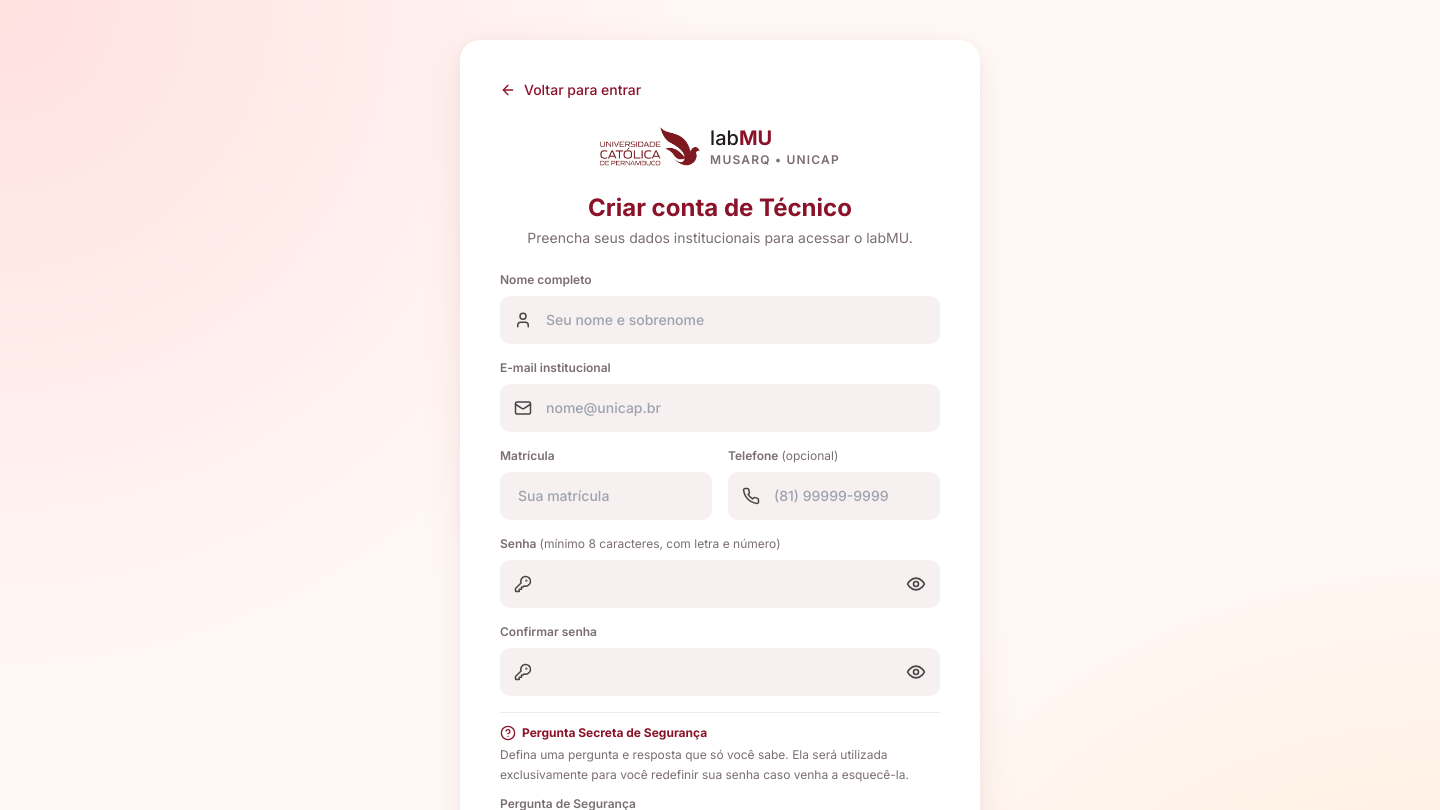
it: RegisterPage: validação › recusa confirmação de senha diferente
In the field labelled "Nome completo": (720, 320) x1=500 y1=296 x2=940 y2=344, type "Maria Técnica"
In the field labelled "E-mail institucional": (720, 408) x1=500 y1=384 x2=940 y2=432, type "maria.tecnica@unicap.br"
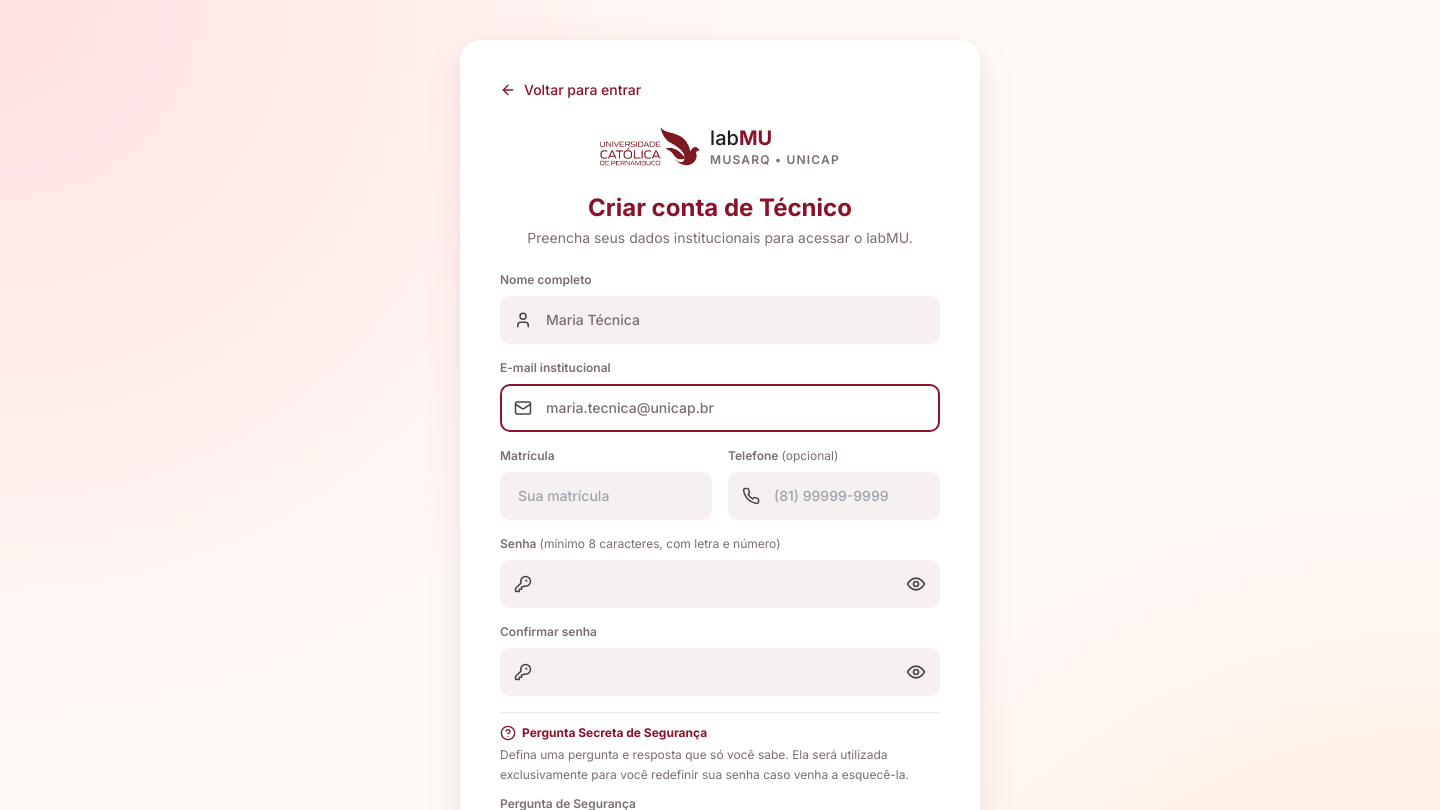
In the field labelled "Matrícula": (606, 496) x1=500 y1=472 x2=712 y2=520, type "2019123"
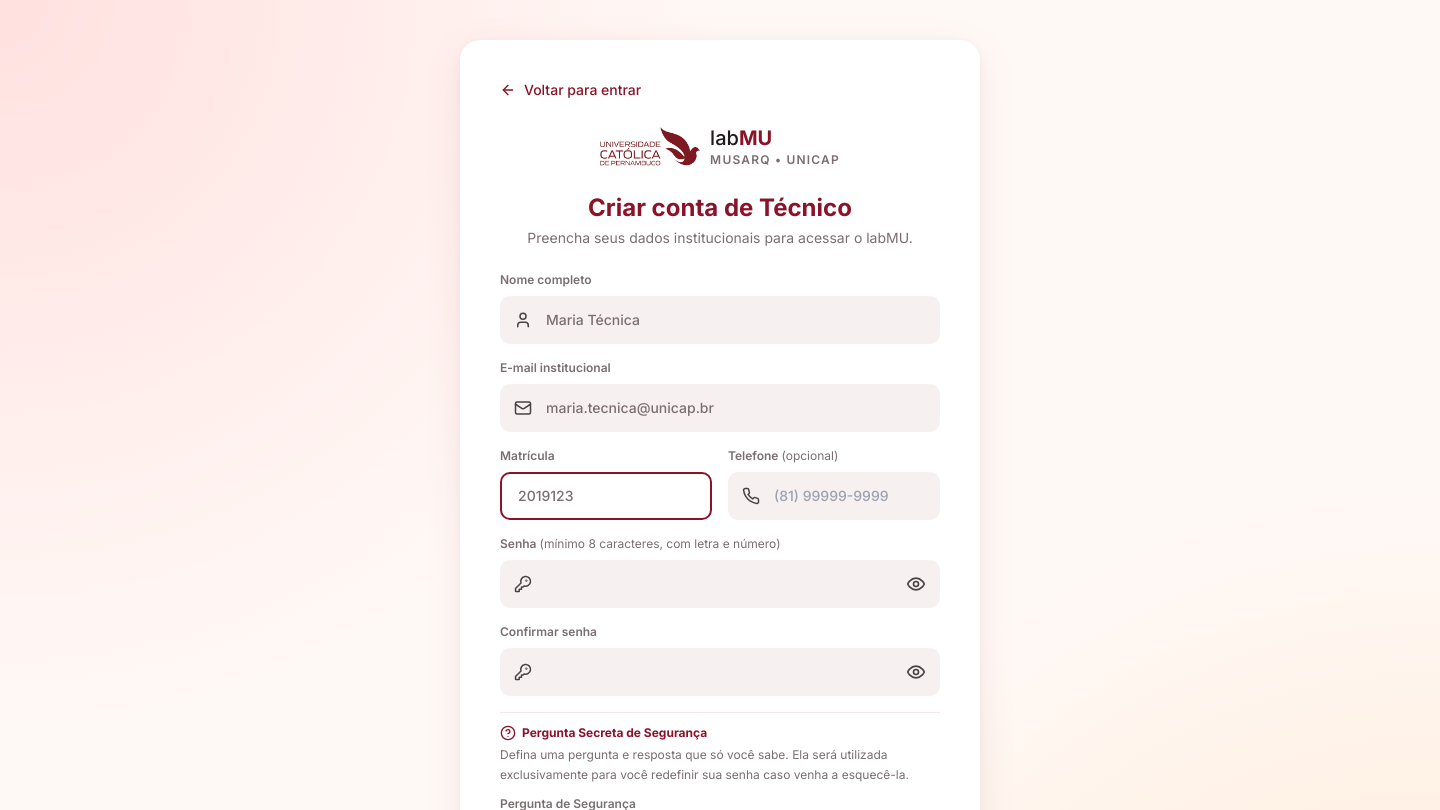
In the password field labelled "Senha (mínimo 8 caracteres, com letra e número)": (720, 584) x1=500 y1=560 x2=940 y2=608, type "SenhaForte@123"
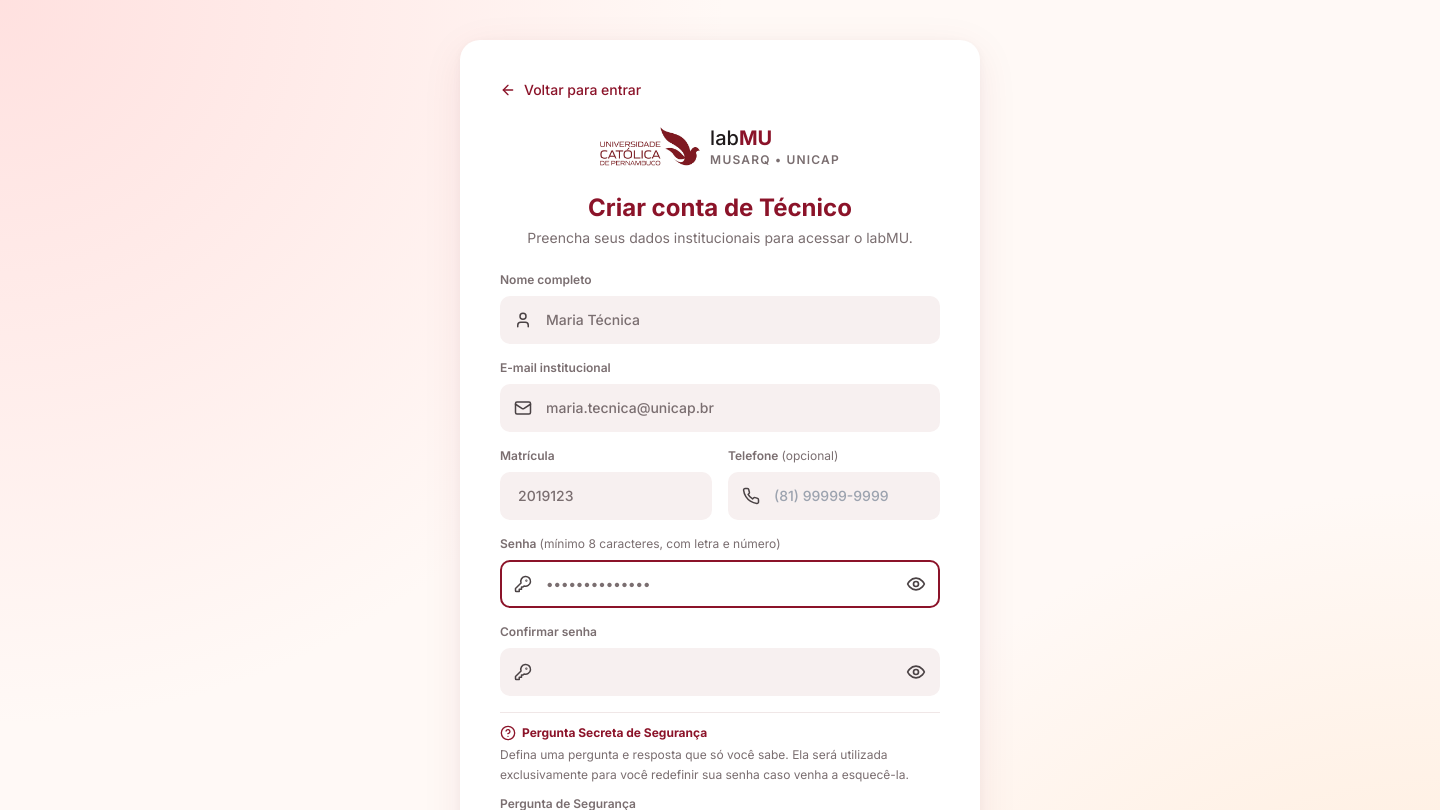
In the password field labelled "Confirmar senha": (720, 672) x1=500 y1=648 x2=940 y2=696, type "OutraSenha@123"
(page scrolled)
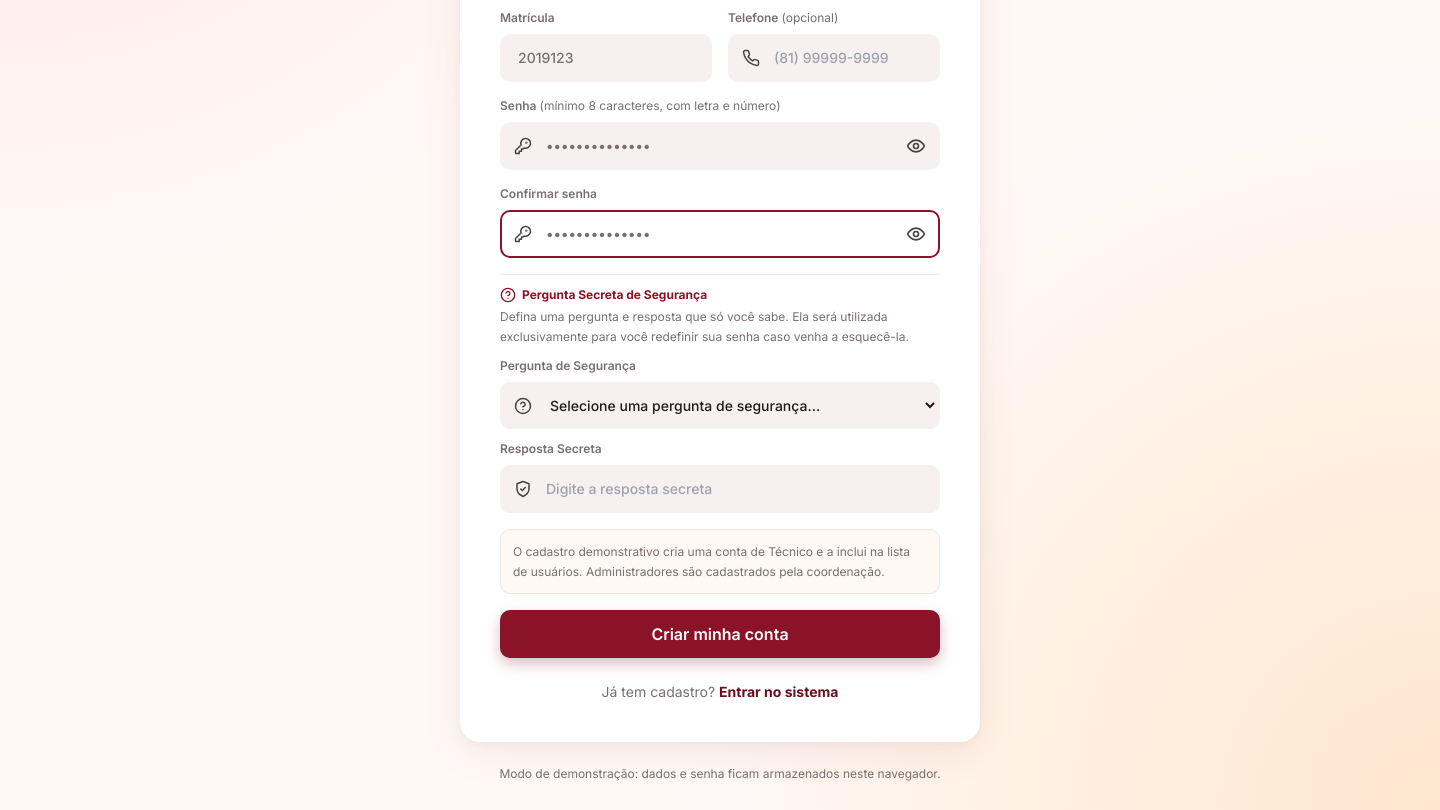
Select "Qual o nome do seu primeiro animal de estimação?" in the dropdown labelled "Pergunta de Segurança": (720, 406) x1=500 y1=382 x2=940 y2=429
In the field labelled "Resposta Secreta": (720, 489) x1=500 y1=465 x2=940 y2=513, type "Totó"
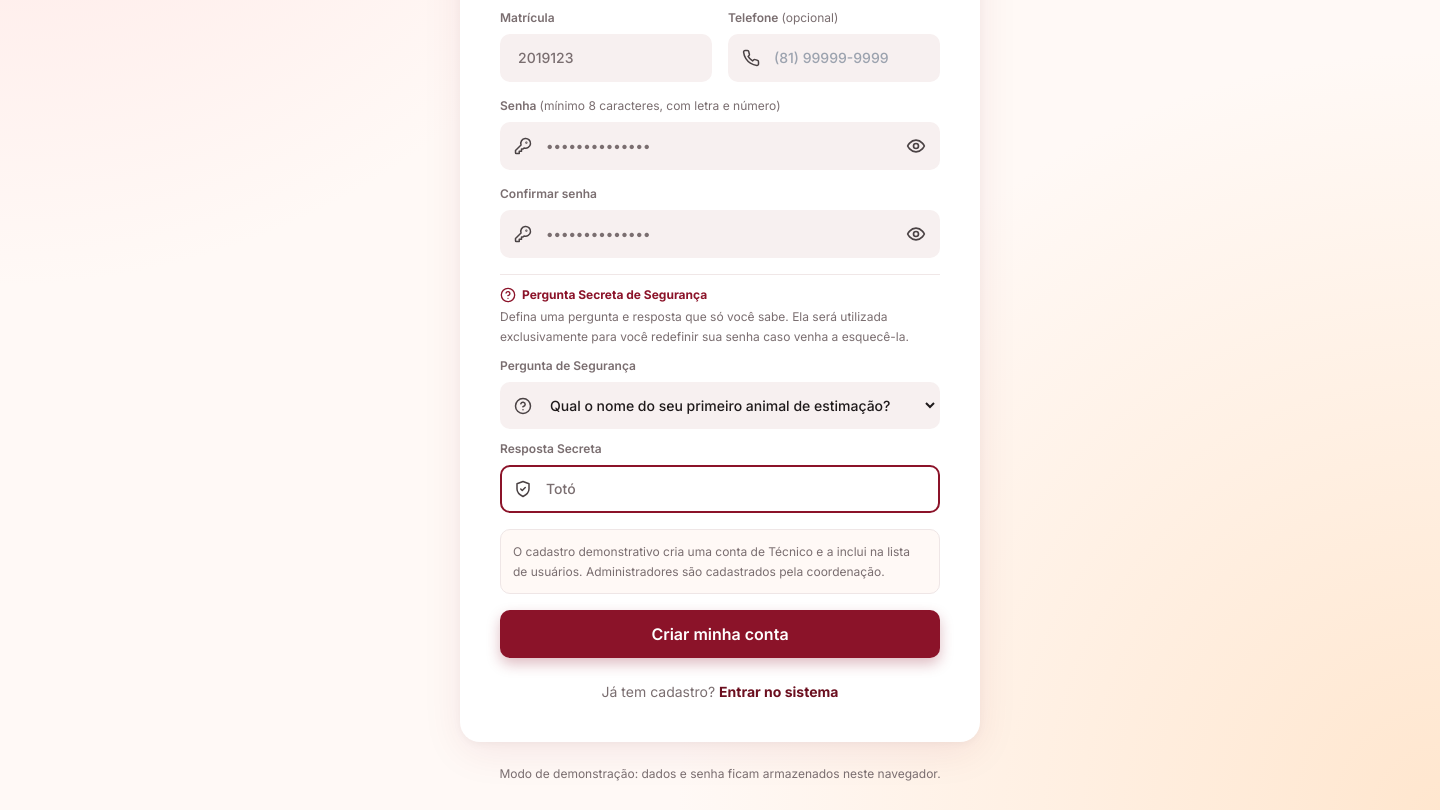
Click the button "Criar minha conta": click(720, 634) x1=500 y1=610 x2=940 y2=658
(page scrolled)
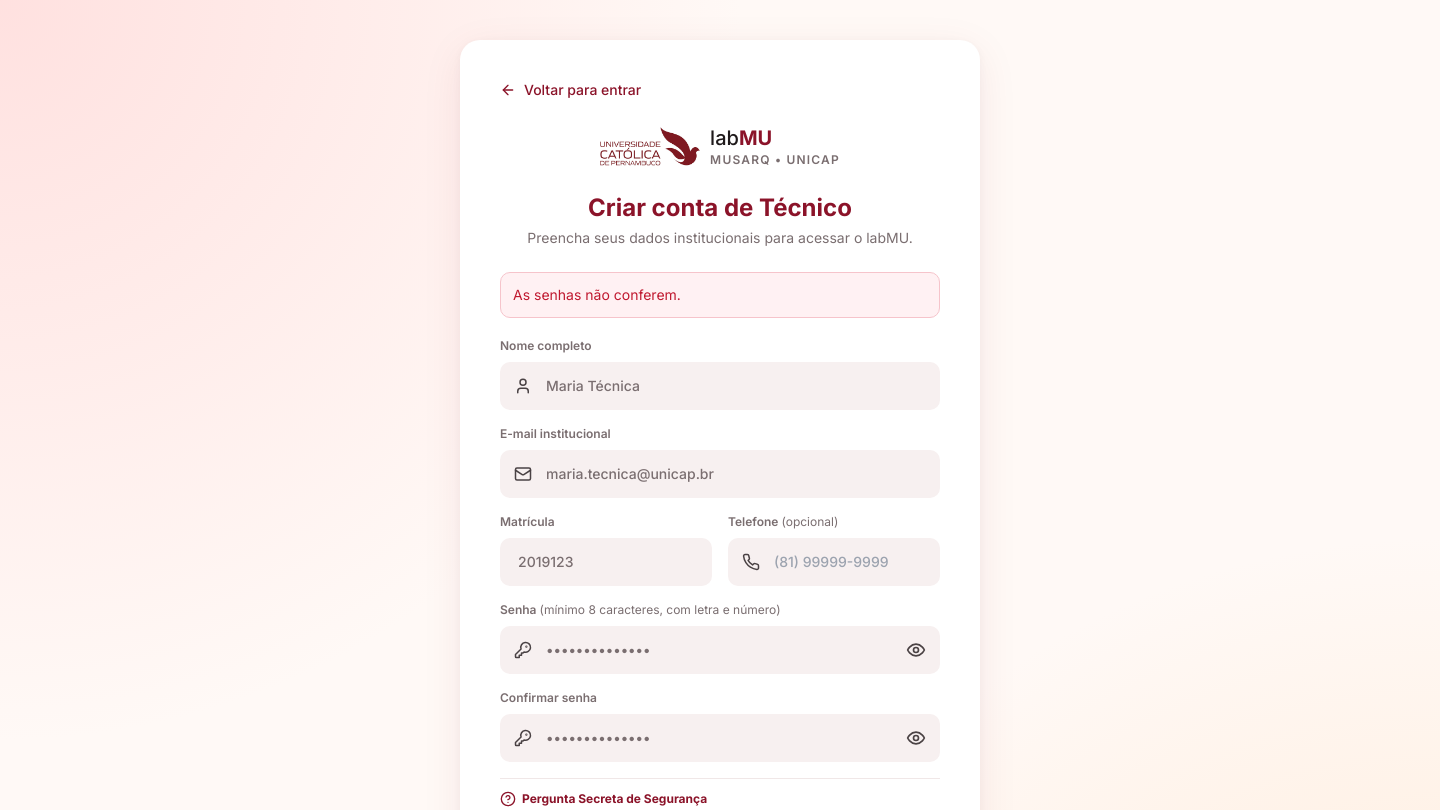
Now the text "As senhas não conferem." is shown, box x1=500 y1=272 x2=940 y2=318
